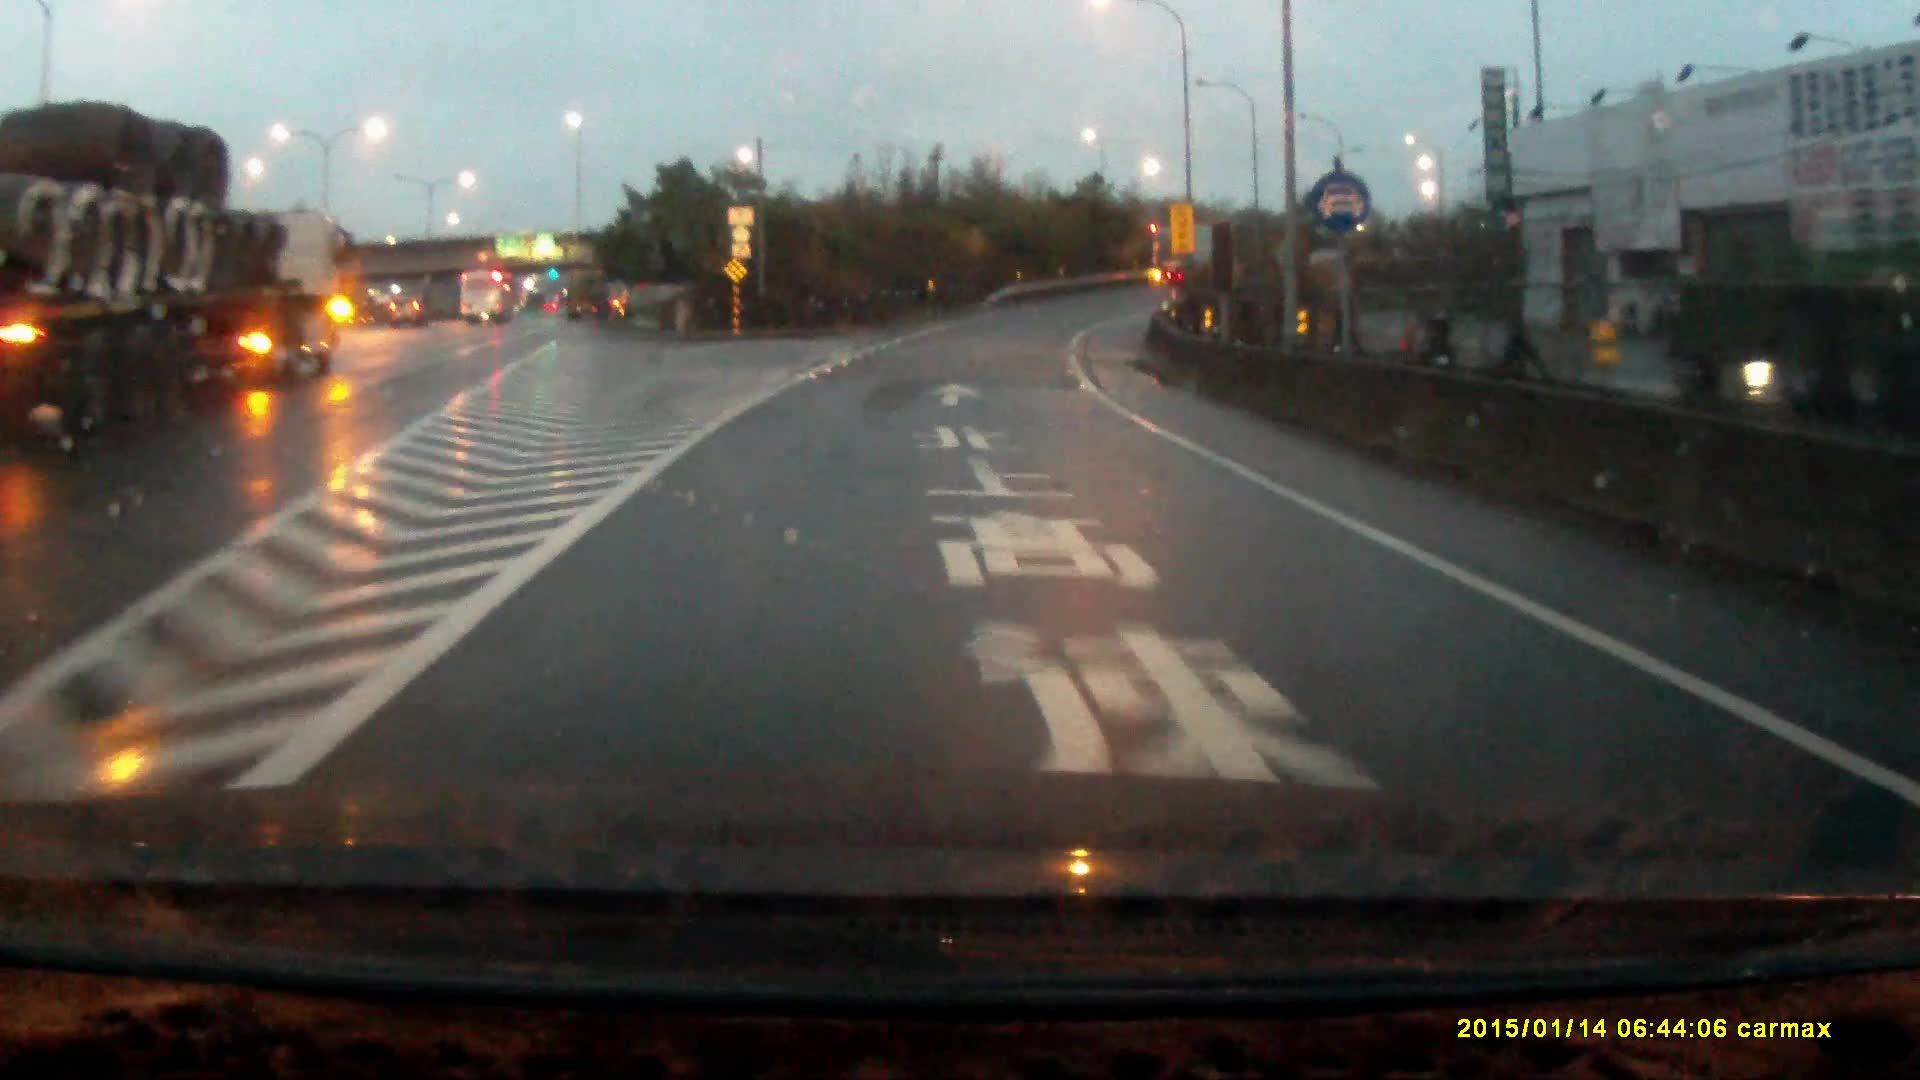vehicle: (1, 104, 353, 436), (1149, 220, 1242, 282), (460, 268, 521, 324), (389, 291, 426, 324)
